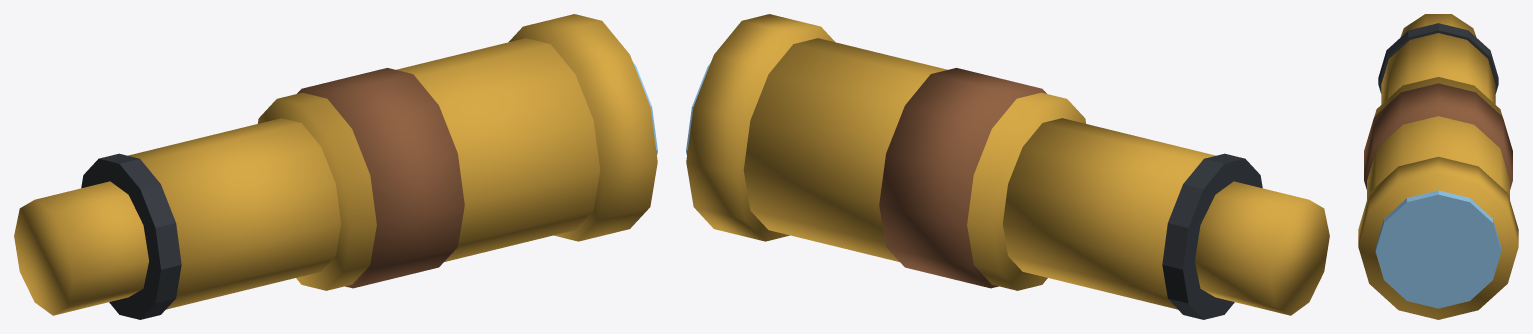
The model's file is lens.glb.
3 renders of one model, left to right at view 1: azimuth 30°, elevation 25°; view 2: azimuth 150°, elevation 25°; view 3: azimuth 270°, elevation 25°, orthographic. The views are drawn at different scales.
Visible parts, largest first — view 1: lens; view 2: lens; view 3: lens.
Boxes of the visible parts, left/top/right/bottom form: lens: left=14, top=14, right=657, bottom=319; lens: left=686, top=14, right=1329, bottom=319; lens: left=1358, top=14, right=1518, bottom=319.
Bounding box in the file's own units: 0.332 × 0.112 × 0.112.
